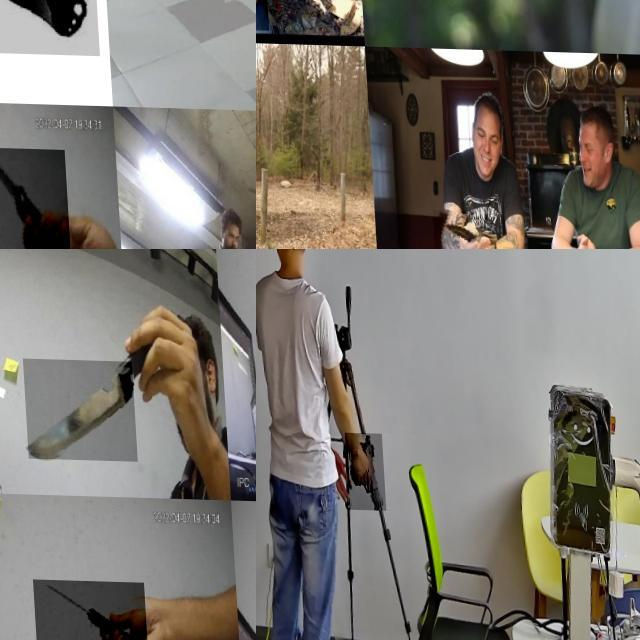-: (0, 0, 154, 77), (21, 358, 134, 460), (386, 0, 613, 45), (27, 578, 142, 640), (0, 145, 64, 249), (203, 0, 256, 48), (426, 207, 477, 249), (256, 183, 277, 249), (256, 0, 275, 31)
gun-knife-thesis - v11 Yolov5 augmented: (340, 432, 380, 508)
